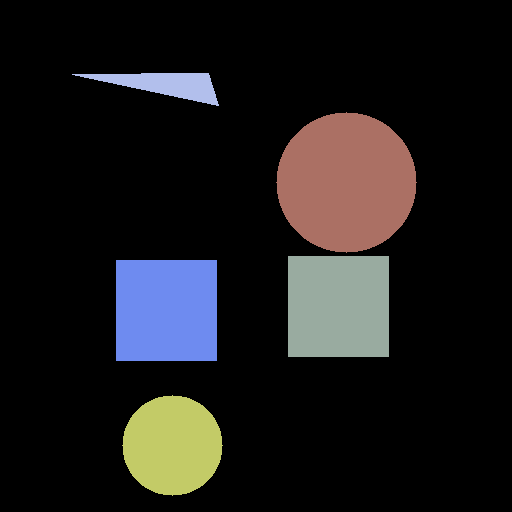circle: (276, 112, 416, 252), (122, 395, 222, 495)
square: (116, 260, 216, 360), (288, 256, 388, 356)
triangle: (72, 73, 218, 105)
